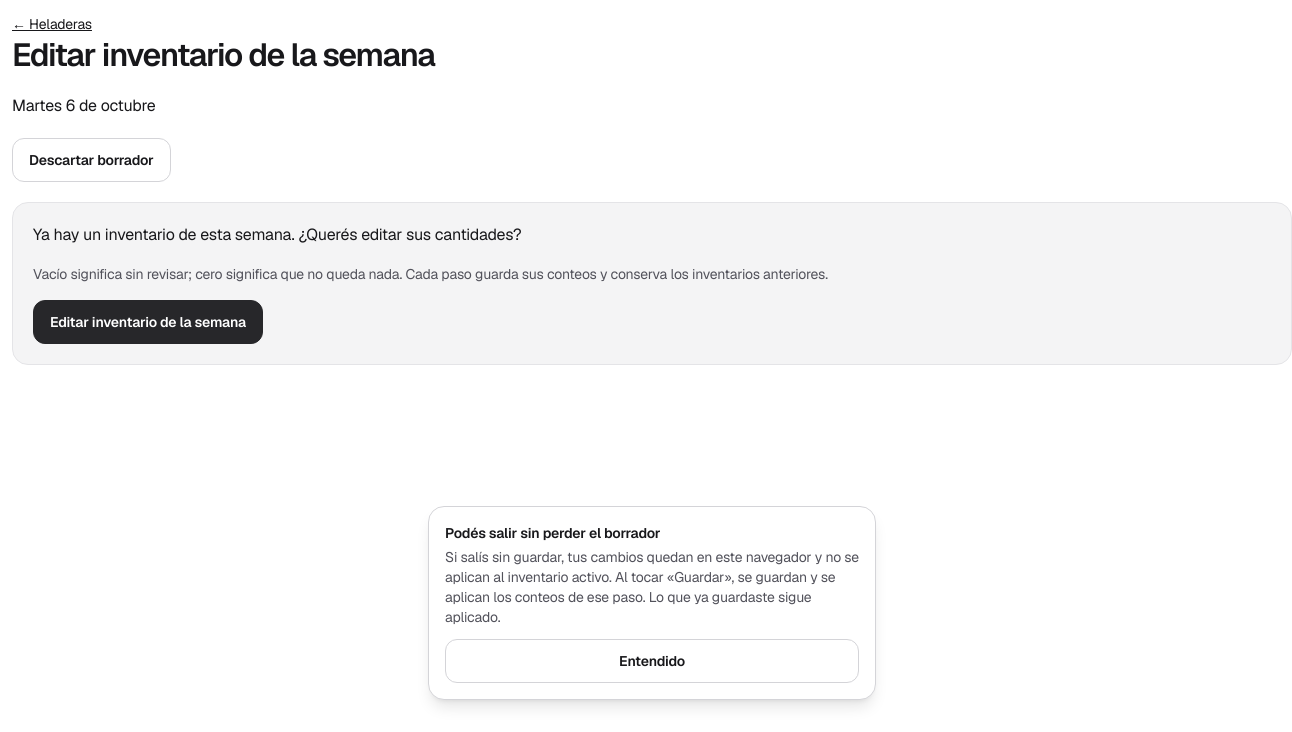
Test case: keeps entered quantities on failure and does not advance
The image size is (1292, 732).
Click the button "Editar inventario de la semana" at (148, 322), box [33,300,263,344]
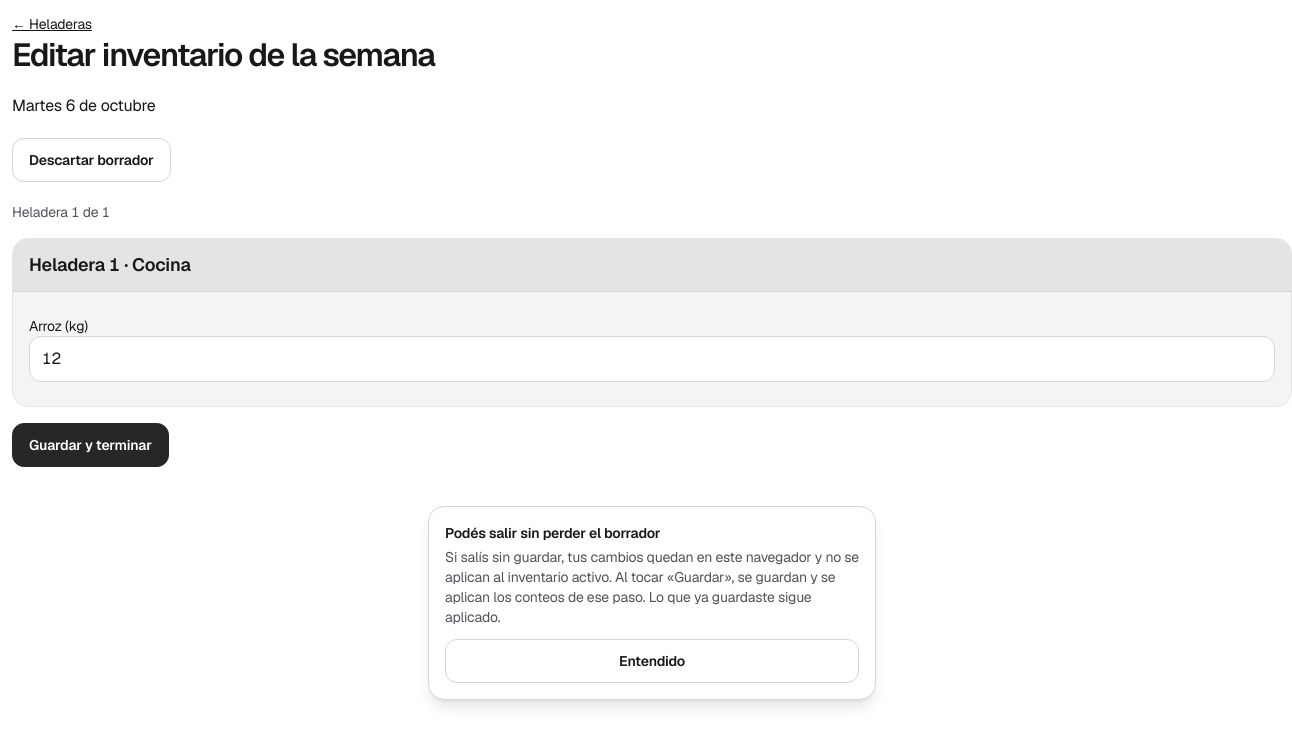
Result: the number field holds "12"
Replace the text in the number field with "9" at (652, 359), box [29,336,1275,382]
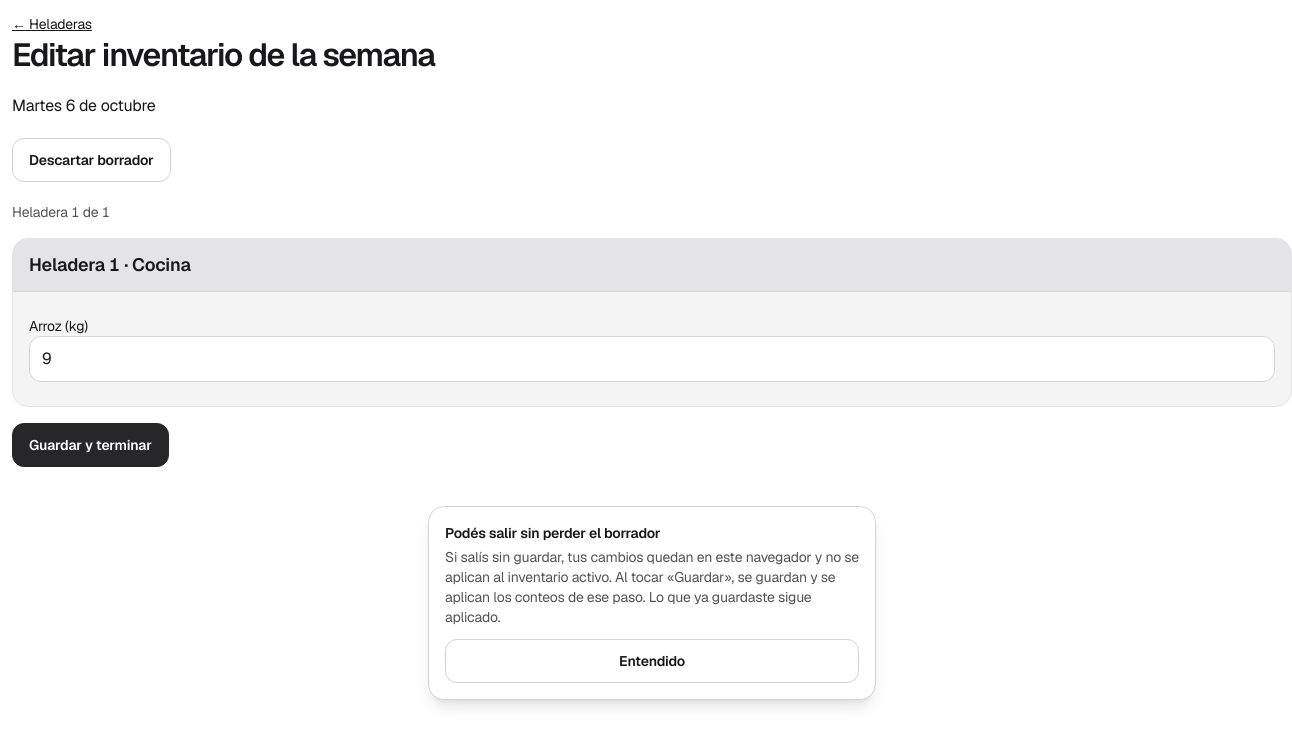
Click the button "Guardar y terminar" at (90, 445), box [12,423,169,467]
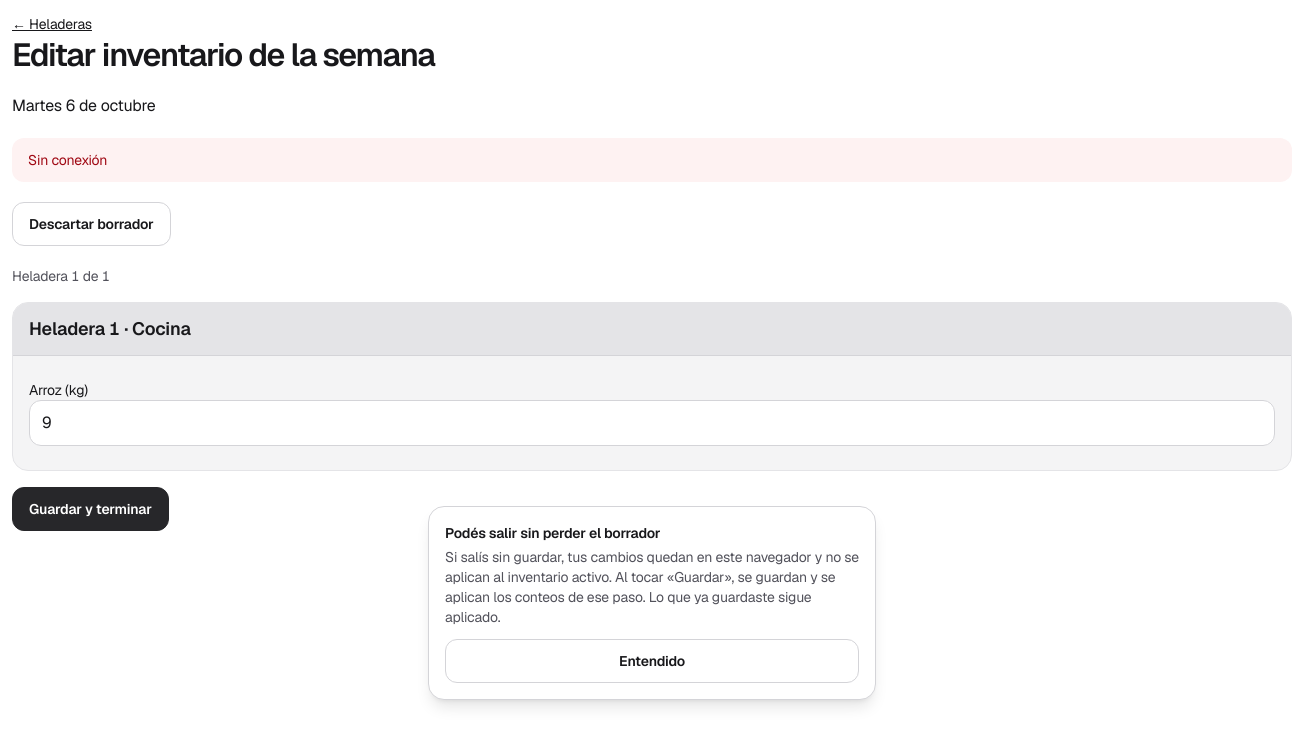
Result: the text "Sin conexión" is shown at [12,138,1291,182]
